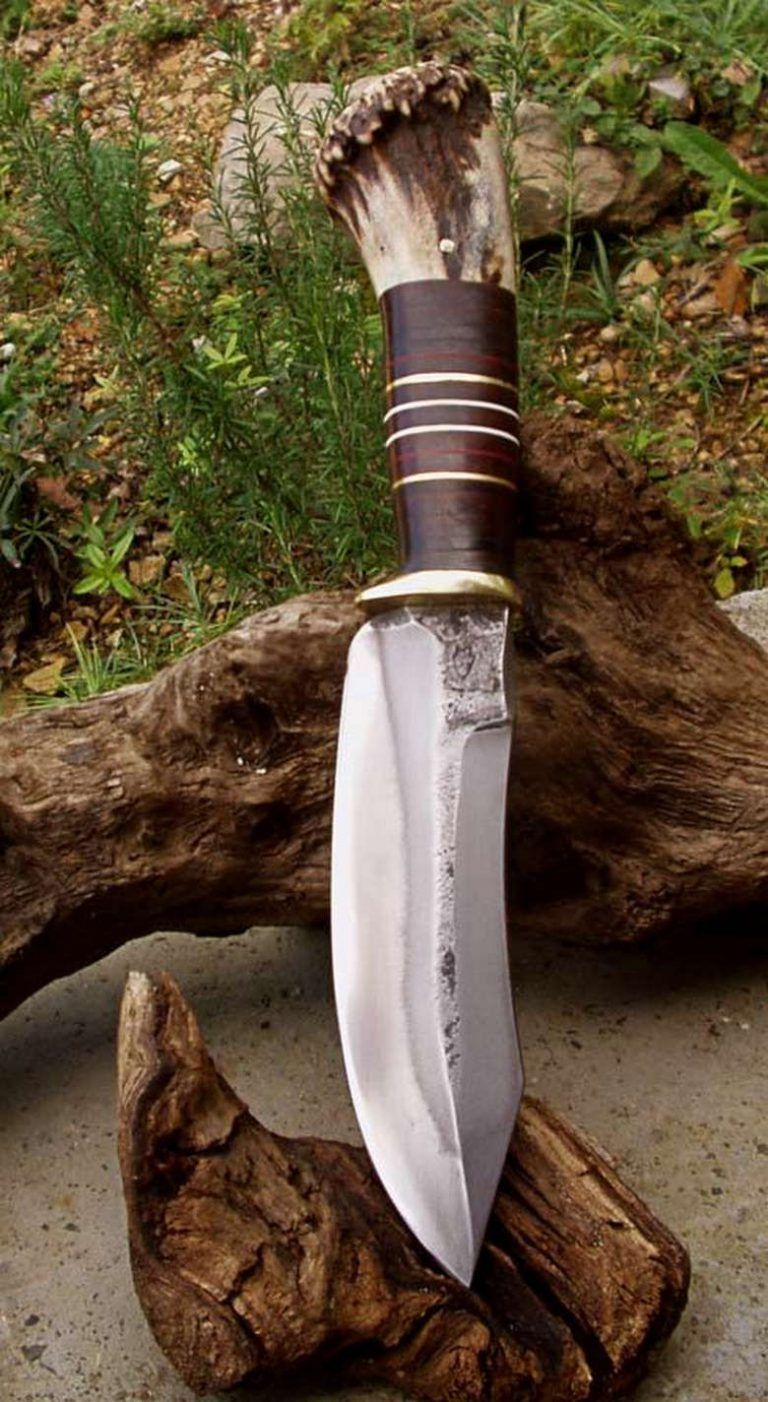knife: (268, 48, 573, 1319)
